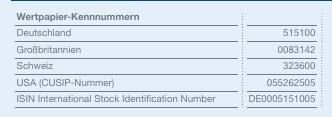table: (0, 0, 332, 117)
